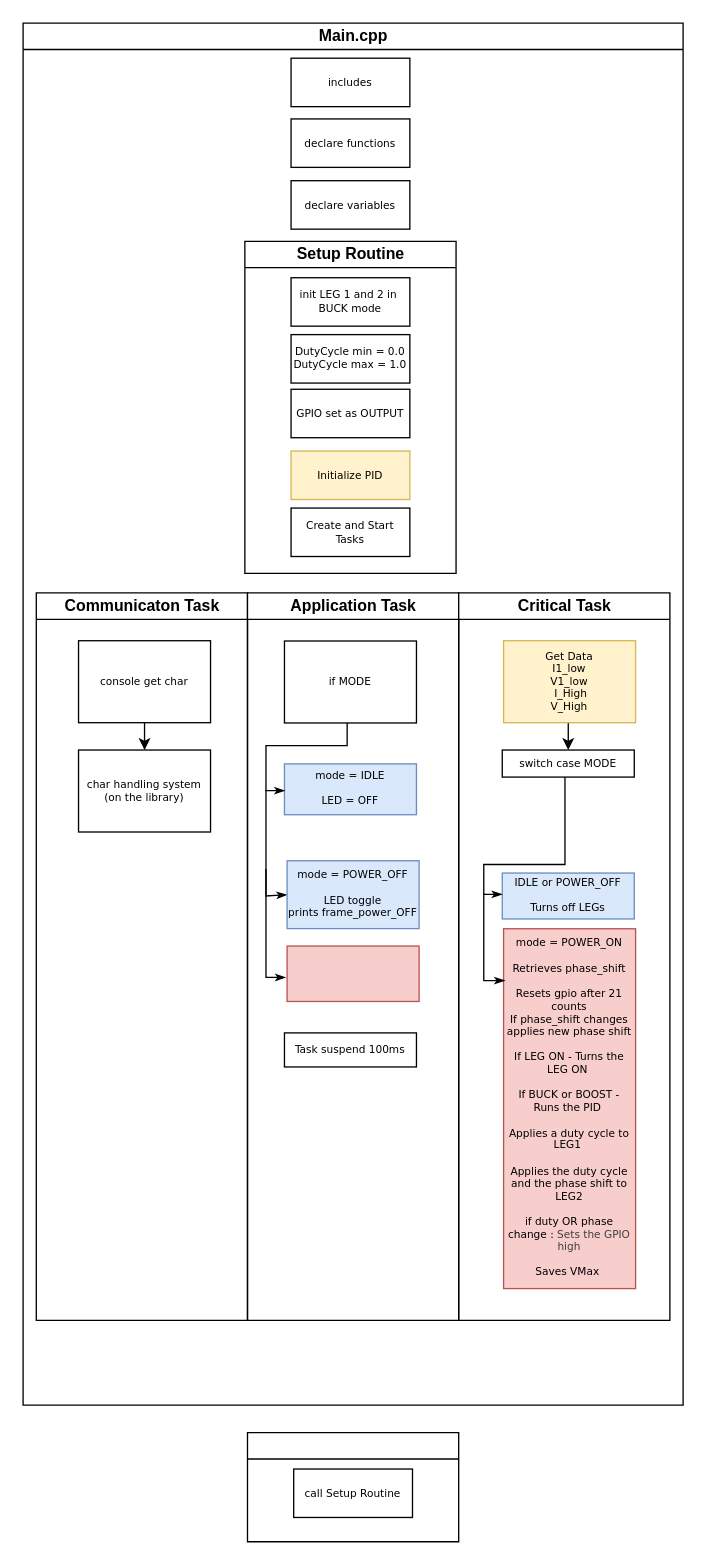
This 706x1566 diagram has some shape labels left out. Here are the shapes that lost their labels. From the top down, the box of each, then its label:
(286, 945, 419, 1001): mode = POWER_ON LED ON prints frame_power_ON
(246, 1431, 459, 1542): main()
